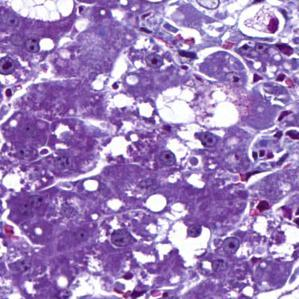ballooning: (154, 79, 242, 130), (235, 3, 288, 43), (6, 4, 77, 24)
